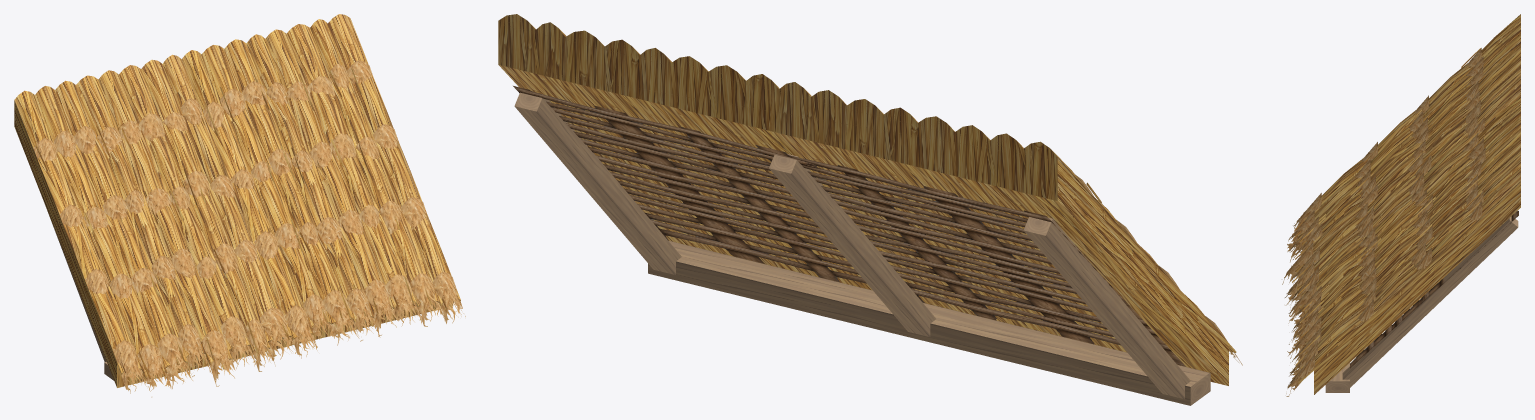
File: DetailedReference.fbx
The picture shows the model from 3 angles, left to right: view 1: azimuth 30°, elevation 25°; view 2: azimuth 150°, elevation 25°; view 3: azimuth 270°, elevation 25°; orthographic projection. The views are drawn at different scales.
Parts seen in each view (by area): view 1: Roof_Thatch_Export; view 2: Roof_Thatch_Export; view 3: Roof_Thatch_Export.
Boxes of the visible parts, x1,y1,x2,y2 form: Roof_Thatch_Export: [14, 14, 465, 397]; Roof_Thatch_Export: [498, 14, 1242, 405]; Roof_Thatch_Export: [1282, 14, 1520, 396].
Size of the model in its own units: 4 by 2.63 by 2.48.
